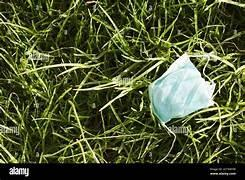Mask: (149, 53, 214, 121)
